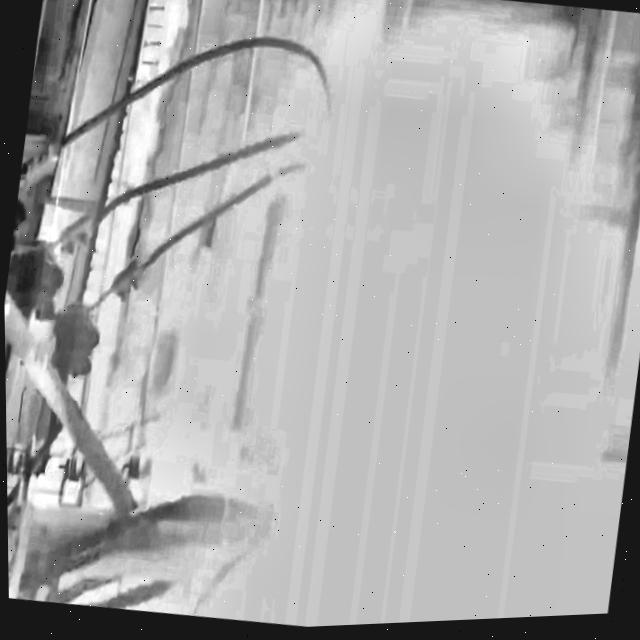Fire: (143, 0, 640, 635)
